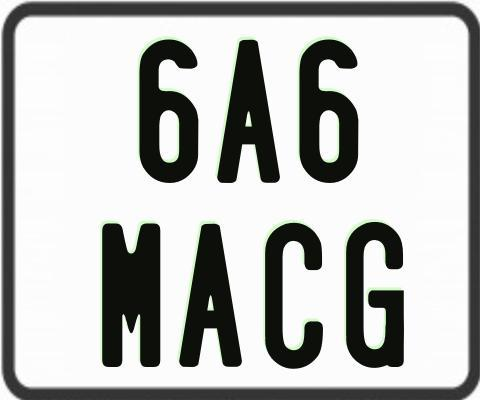6: (296, 38, 358, 188), (139, 39, 202, 186)
A: (177, 224, 242, 373), (215, 40, 278, 184)
C: (264, 223, 328, 373)
G: (346, 220, 409, 366)
M: (101, 221, 164, 368)
